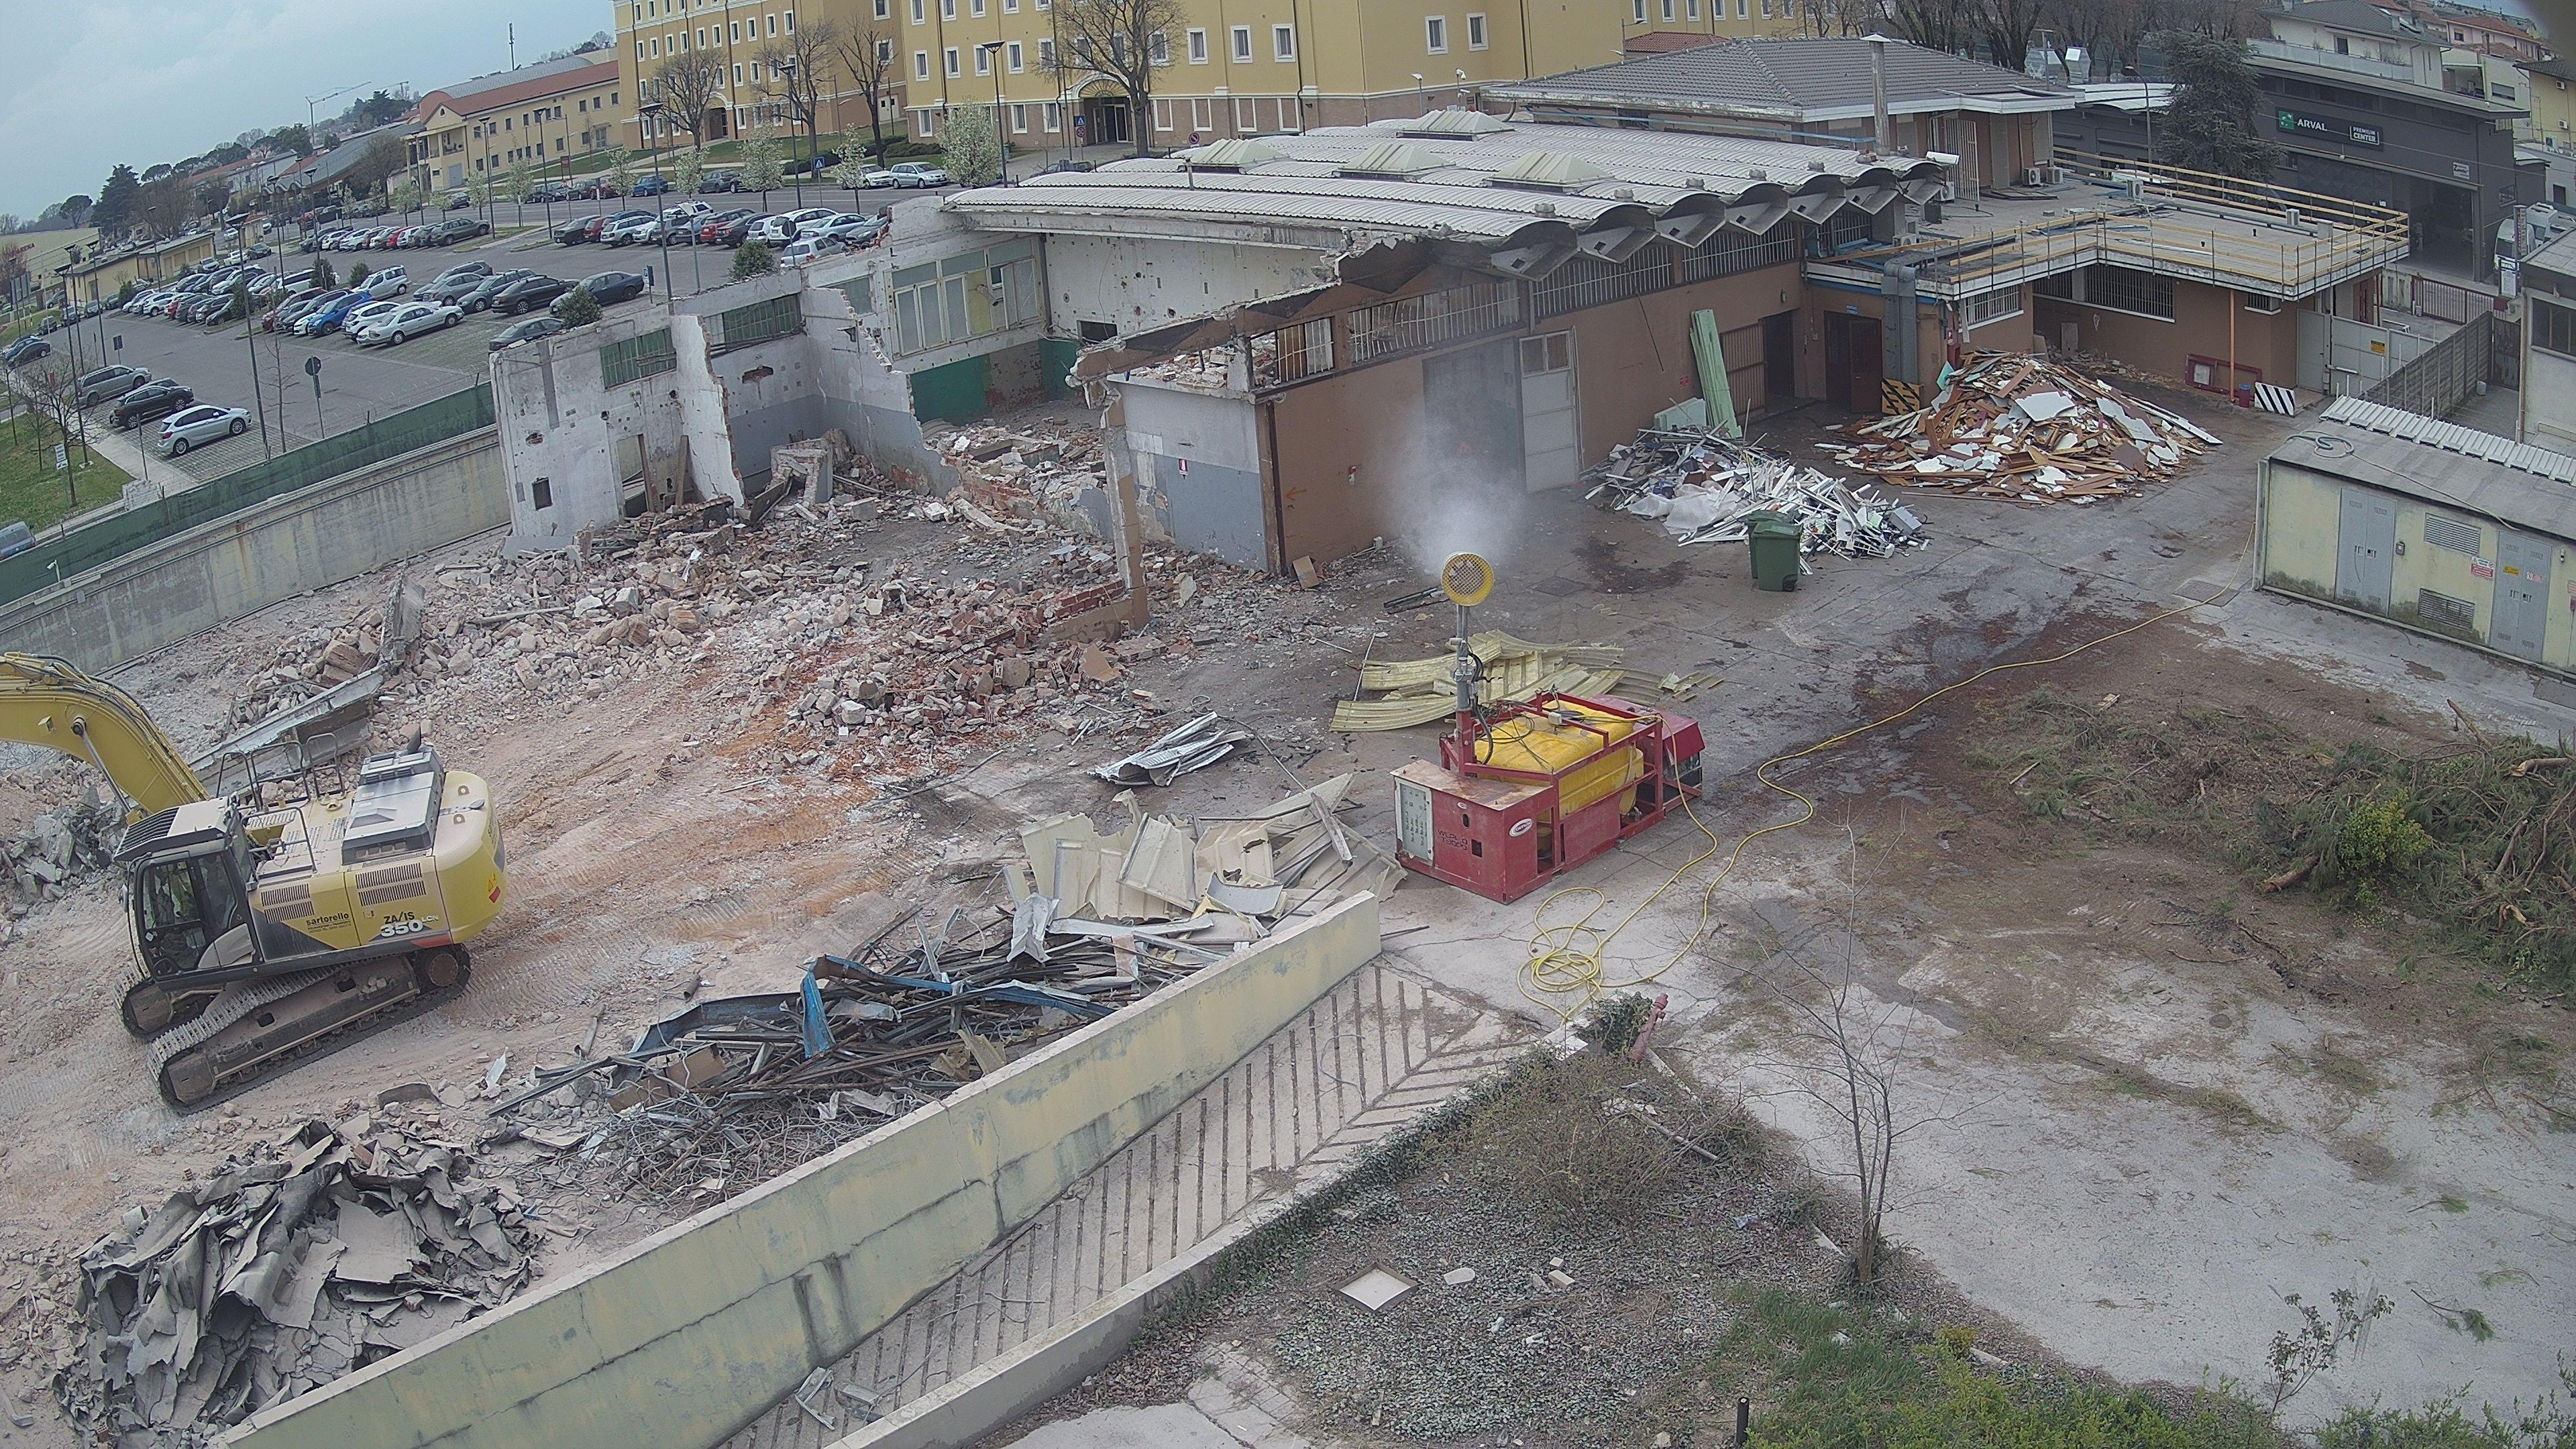Cars: (157, 403, 253, 455), (548, 269, 646, 318), (366, 304, 464, 347), (455, 267, 538, 313), (633, 202, 715, 246), (111, 386, 195, 428), (492, 274, 580, 313), (414, 260, 492, 303), (76, 364, 152, 407), (306, 290, 377, 334), (283, 288, 354, 333), (260, 287, 327, 333), (768, 207, 839, 249), (488, 317, 564, 352), (713, 212, 777, 249), (343, 301, 403, 340), (423, 271, 488, 306), (800, 212, 870, 241), (778, 235, 847, 264), (356, 265, 410, 299), (426, 218, 490, 246), (890, 161, 950, 189), (602, 216, 656, 246), (7, 341, 51, 366), (697, 168, 736, 193), (628, 175, 667, 196), (589, 177, 621, 200), (564, 179, 594, 200), (540, 182, 566, 203), (58, 306, 80, 326), (196, 257, 221, 272), (223, 249, 248, 265), (246, 242, 271, 258), (39, 315, 57, 334), (83, 301, 103, 318), (223, 228, 239, 241)
excavator: (0, 648, 511, 1115)
